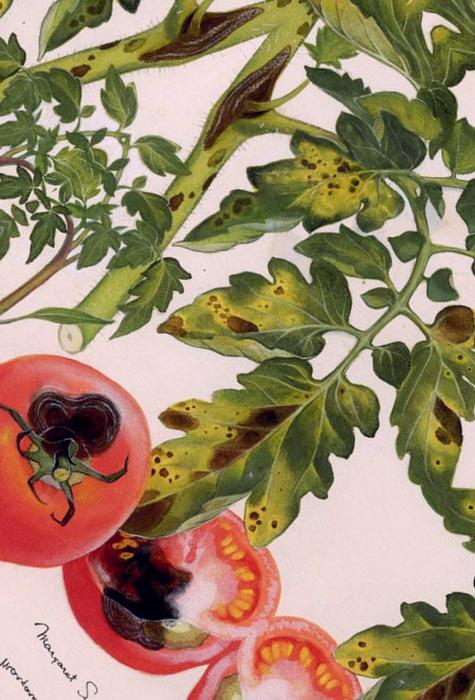Tomato Early blight leaf: (94, 331, 413, 623), (173, 88, 419, 304), (159, 220, 366, 414), (324, 272, 475, 509), (298, 0, 467, 131)
